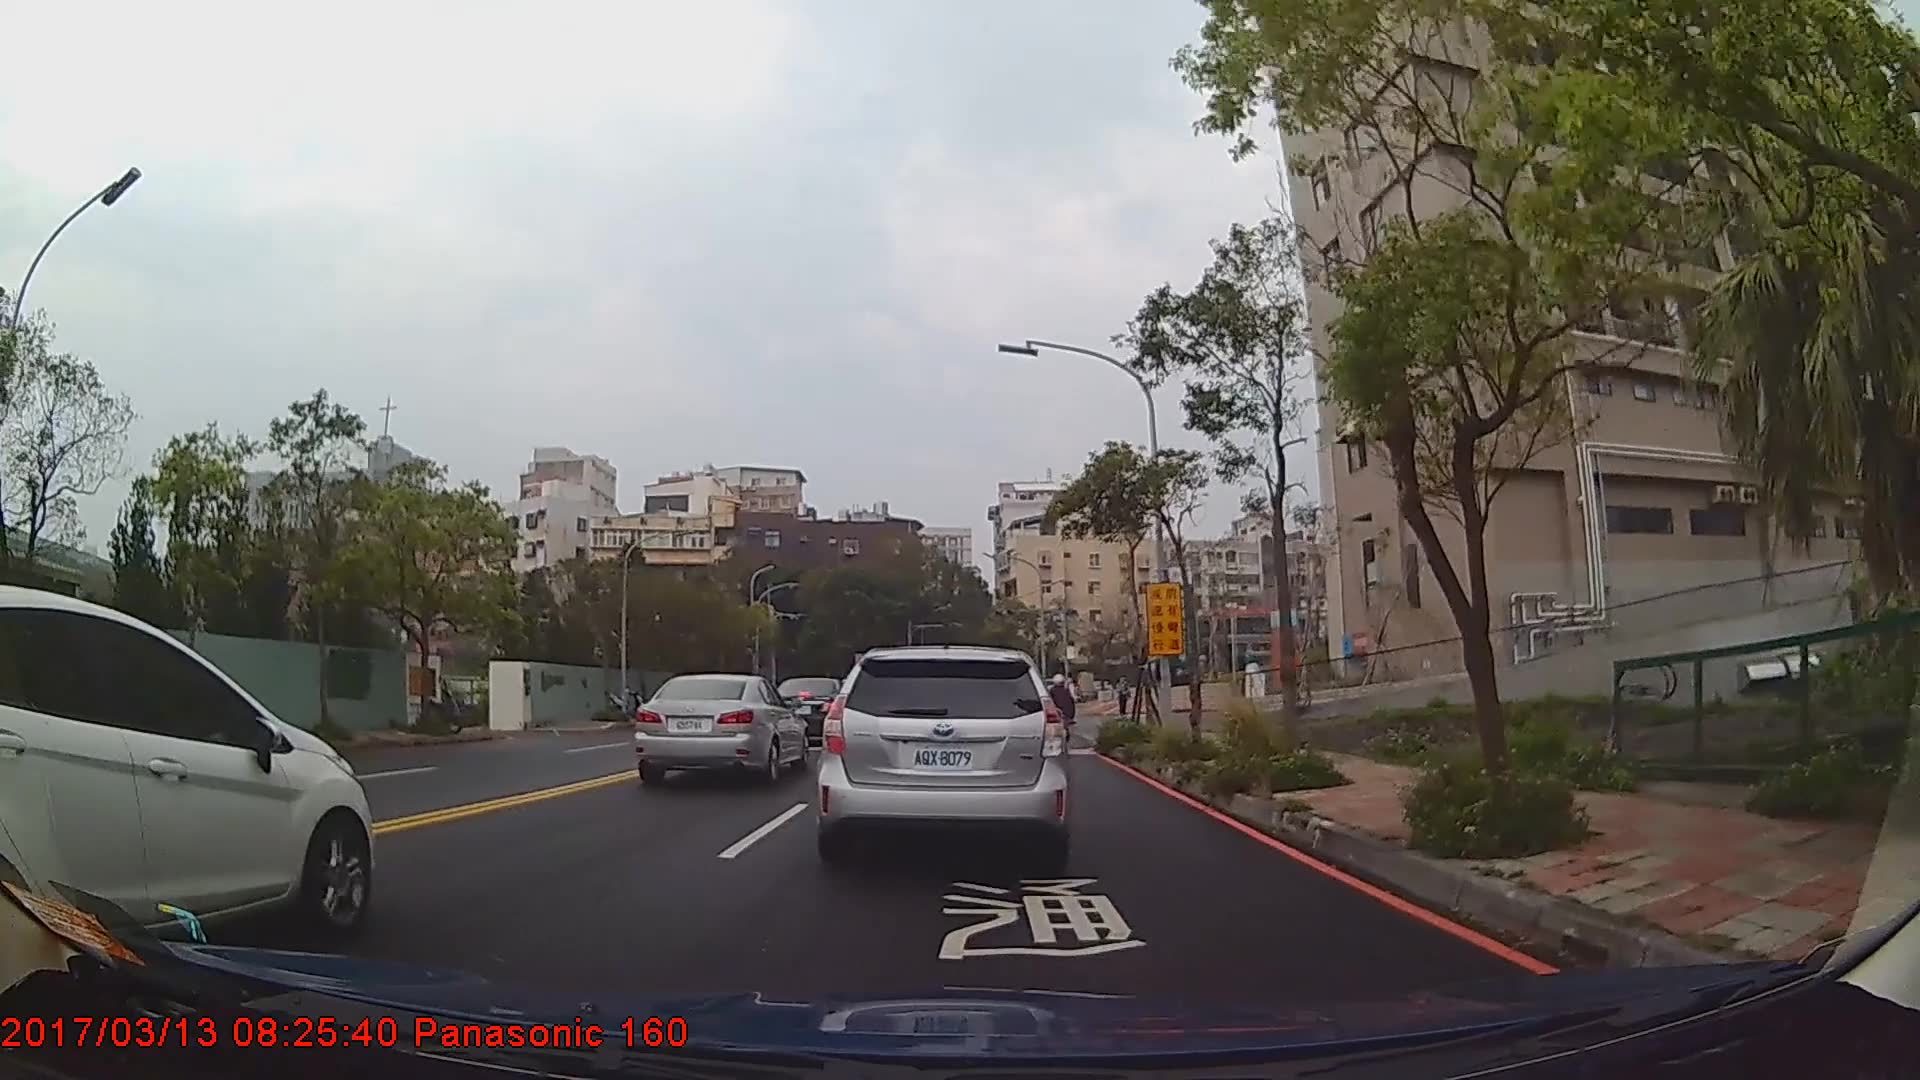rider: (1046, 674, 1077, 749)
vehicle: (0, 582, 373, 960), (817, 643, 1069, 865), (637, 672, 808, 787), (774, 674, 856, 741)
